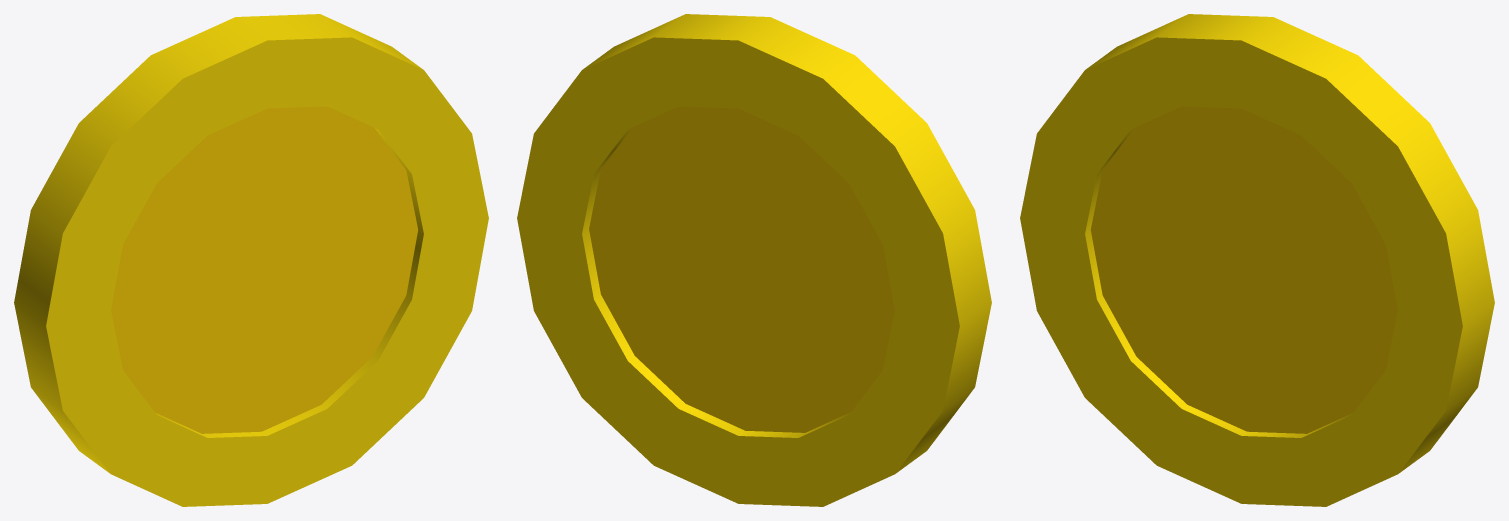
Rendered from Coin.fbx.
The picture shows the model from 3 angles, left to right: view 1: azimuth 30°, elevation 25°; view 2: azimuth 150°, elevation 25°; view 3: azimuth 330°, elevation 25°; orthographic projection.
Visible parts, largest first — view 1: Cylinder.033; view 2: Cylinder.033; view 3: Cylinder.033.
Boxes of the visible parts, bbox=[...] form: Cylinder.033: bbox=[14, 14, 488, 506]; Cylinder.033: bbox=[517, 14, 991, 506]; Cylinder.033: bbox=[1020, 14, 1494, 506].
Bounding box in the file's own units: 0.3969 × 0.0497 × 0.3969.
